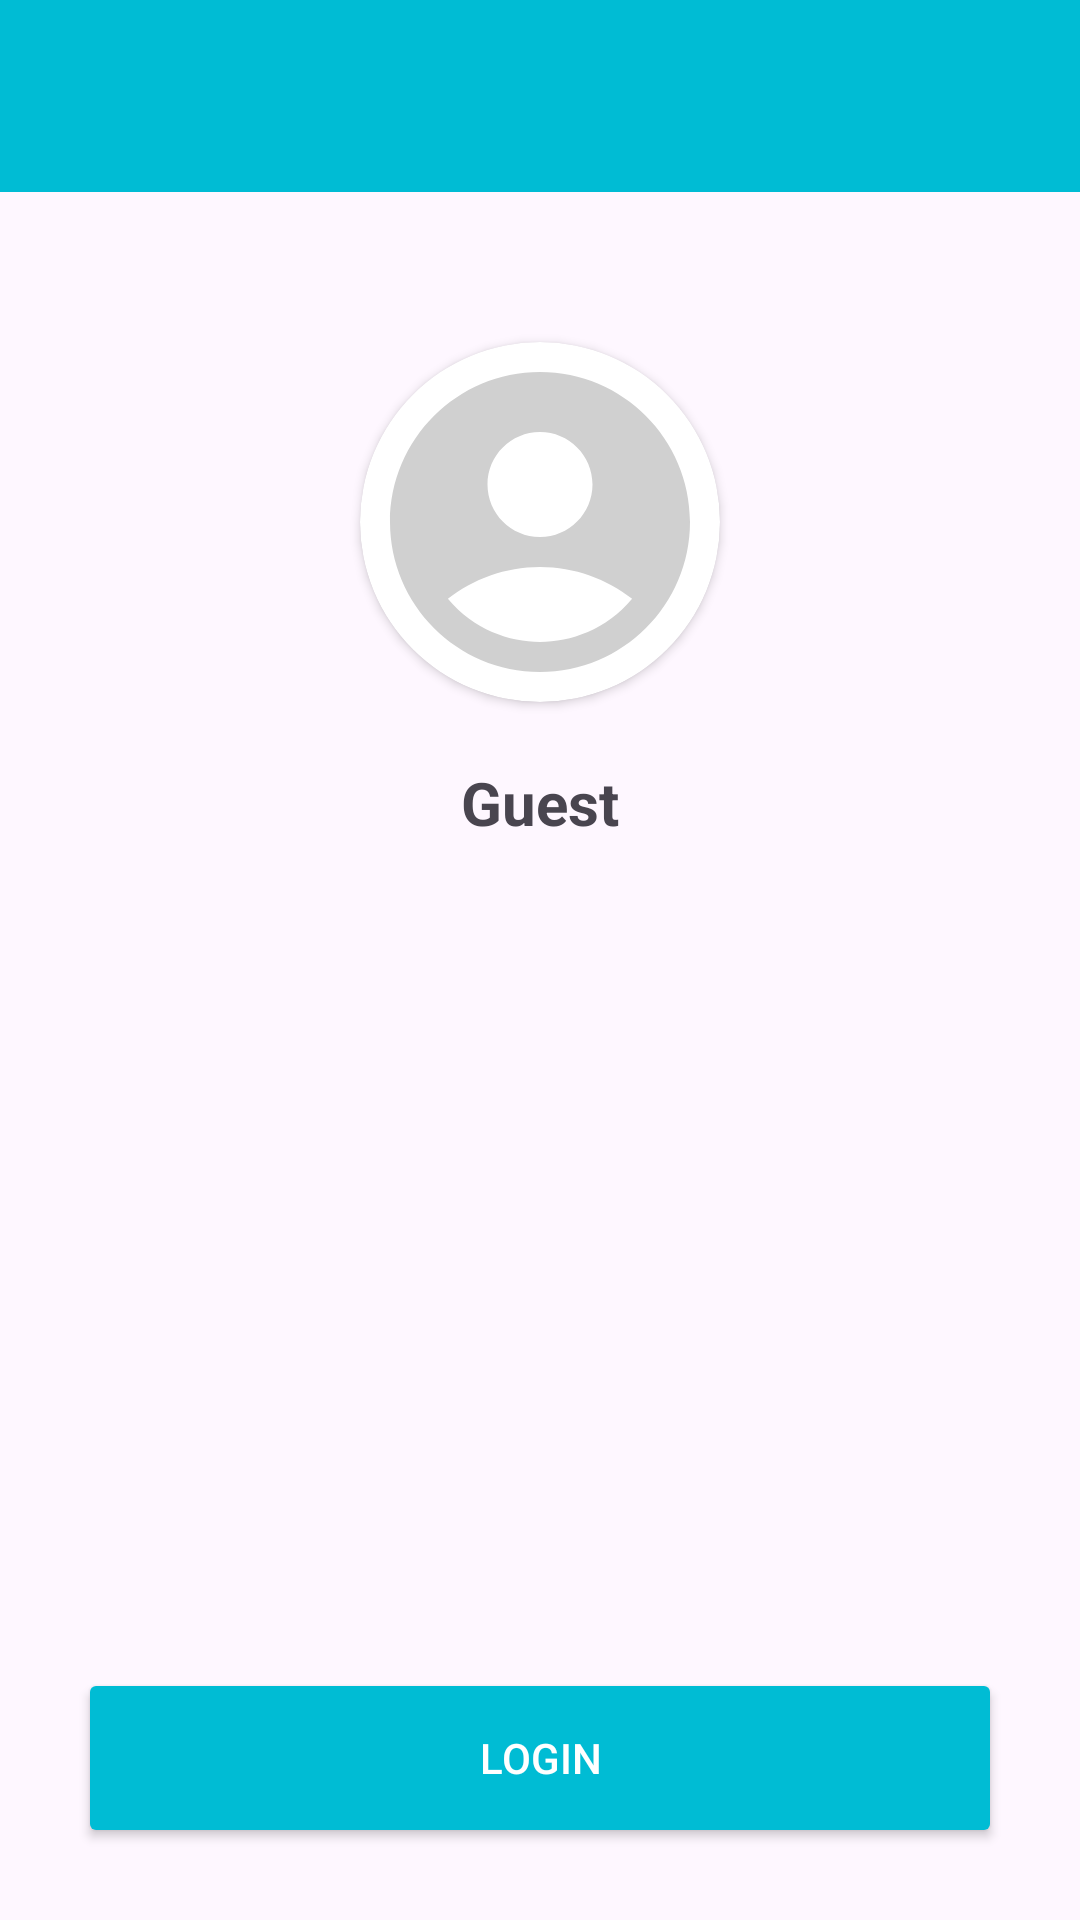

Icon click points for this 1080x1920 phone screenshot, format (x,y):
account circle: (540,522)
